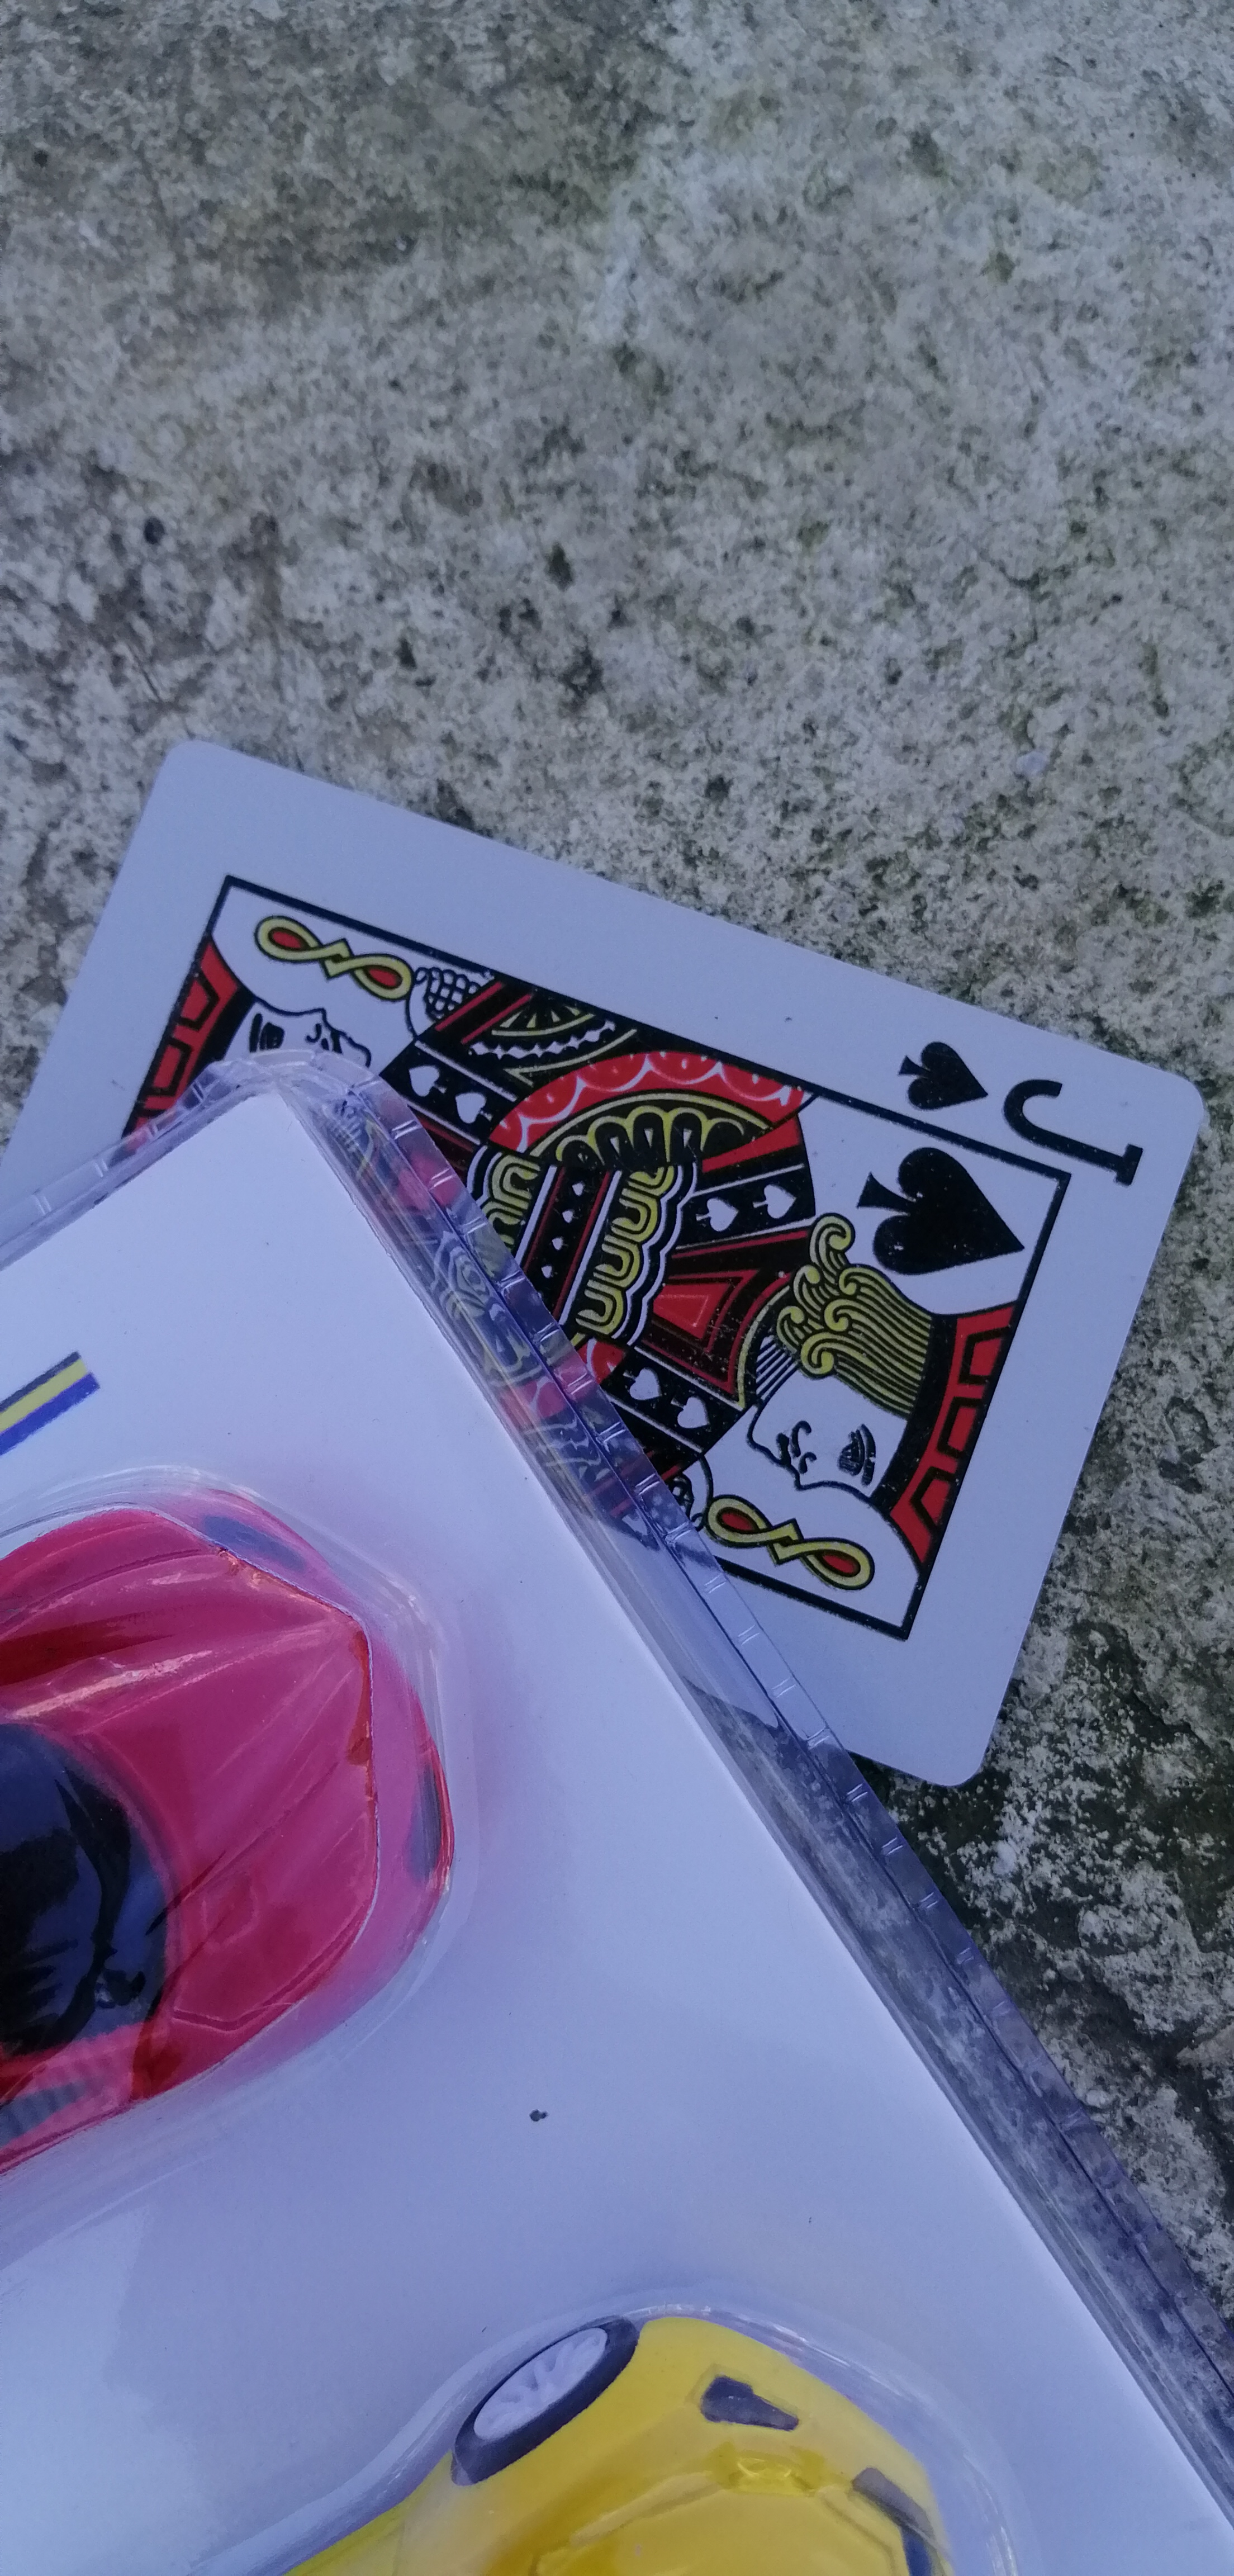jack: (3, 723, 1190, 1835)
